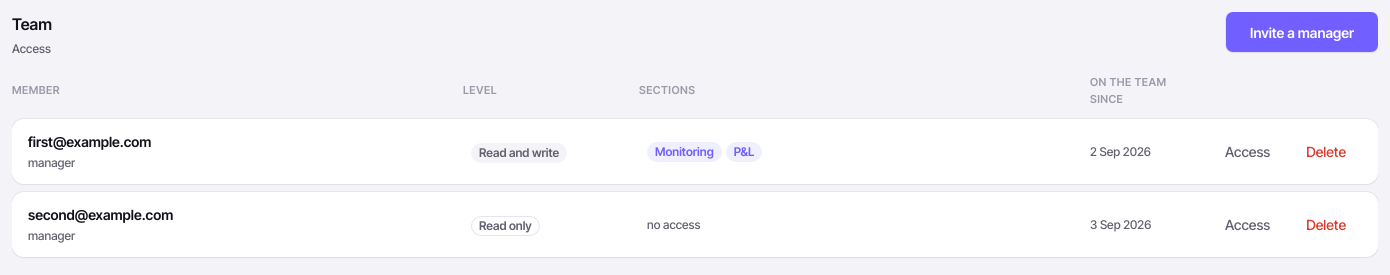
Test: ProfileTeam › does NOT remove on the first press
Click the button "Delete" in the row of "first@example.com" at (1326,152), box [1290,134,1362,170]
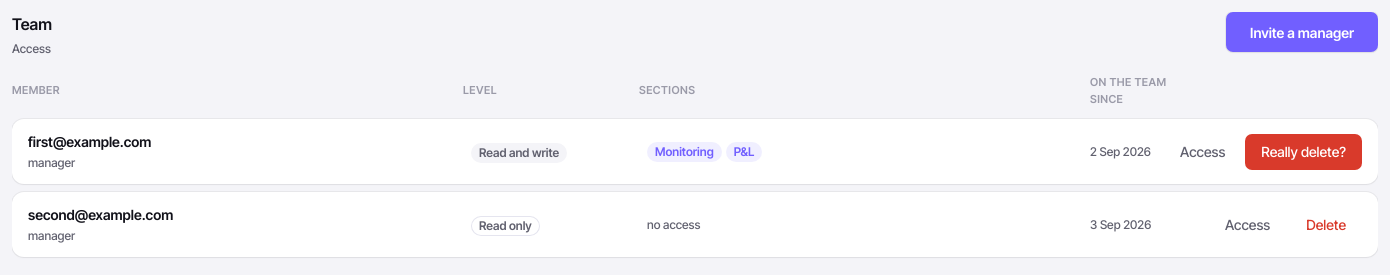
Check: the button "Really delete?" is shown, box [1245,134,1362,170]
